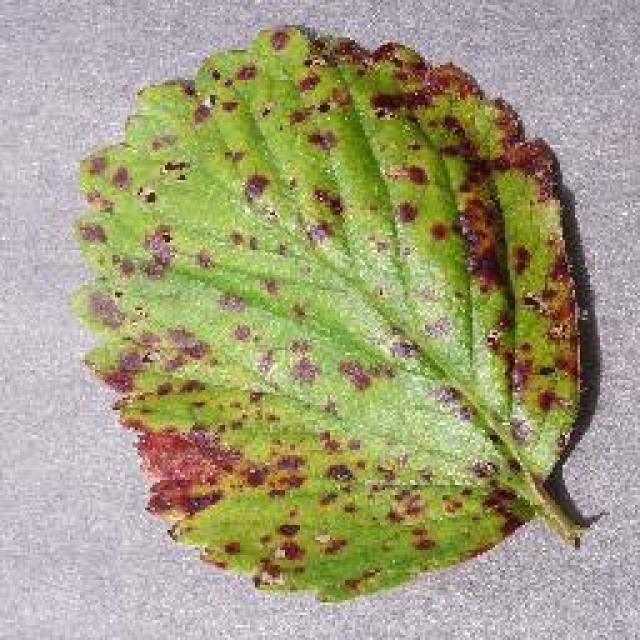Strawberry leaf scorch: (157, 107, 533, 515)
